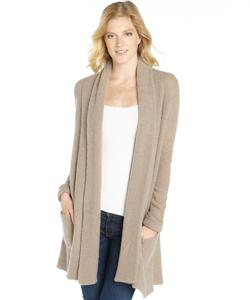S_cardigan sweater: (39, 62, 196, 290)
